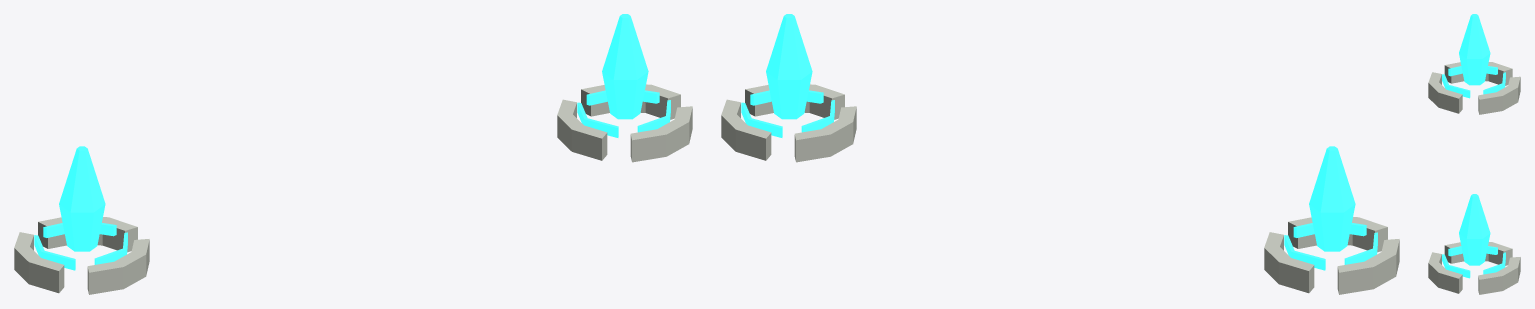
The model's file is City_TrafficSignal_FieldStabilizers.glb.
The picture shows the model from 3 angles, left to right: view 1: azimuth 30°, elevation 25°; view 2: azimuth 150°, elevation 25°; view 3: azimuth 270°, elevation 25°; orthographic projection. The views are drawn at different scales.
Visible parts, largest first — view 1: City_TrafficSignal_FieldStabilizers; view 2: City_TrafficSignal_FieldStabilizers; view 3: City_TrafficSignal_FieldStabilizers.
Boxes of the visible parts, bbox=[...] form: City_TrafficSignal_FieldStabilizers: bbox=[14, 14, 692, 294]; City_TrafficSignal_FieldStabilizers: bbox=[721, 14, 1399, 294]; City_TrafficSignal_FieldStabilizers: bbox=[1428, 14, 1520, 294].
Size of the model in its own units: 3.12 by 0.53 by 0.5533.
